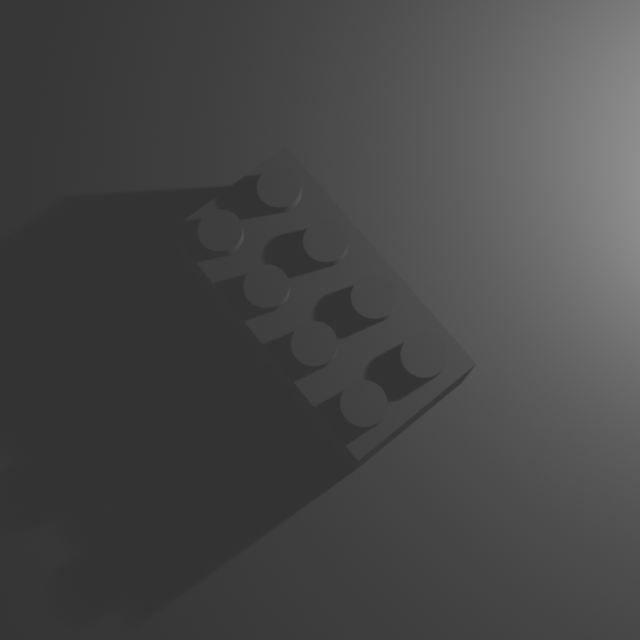lego_2x4: (168, 139, 479, 471)
